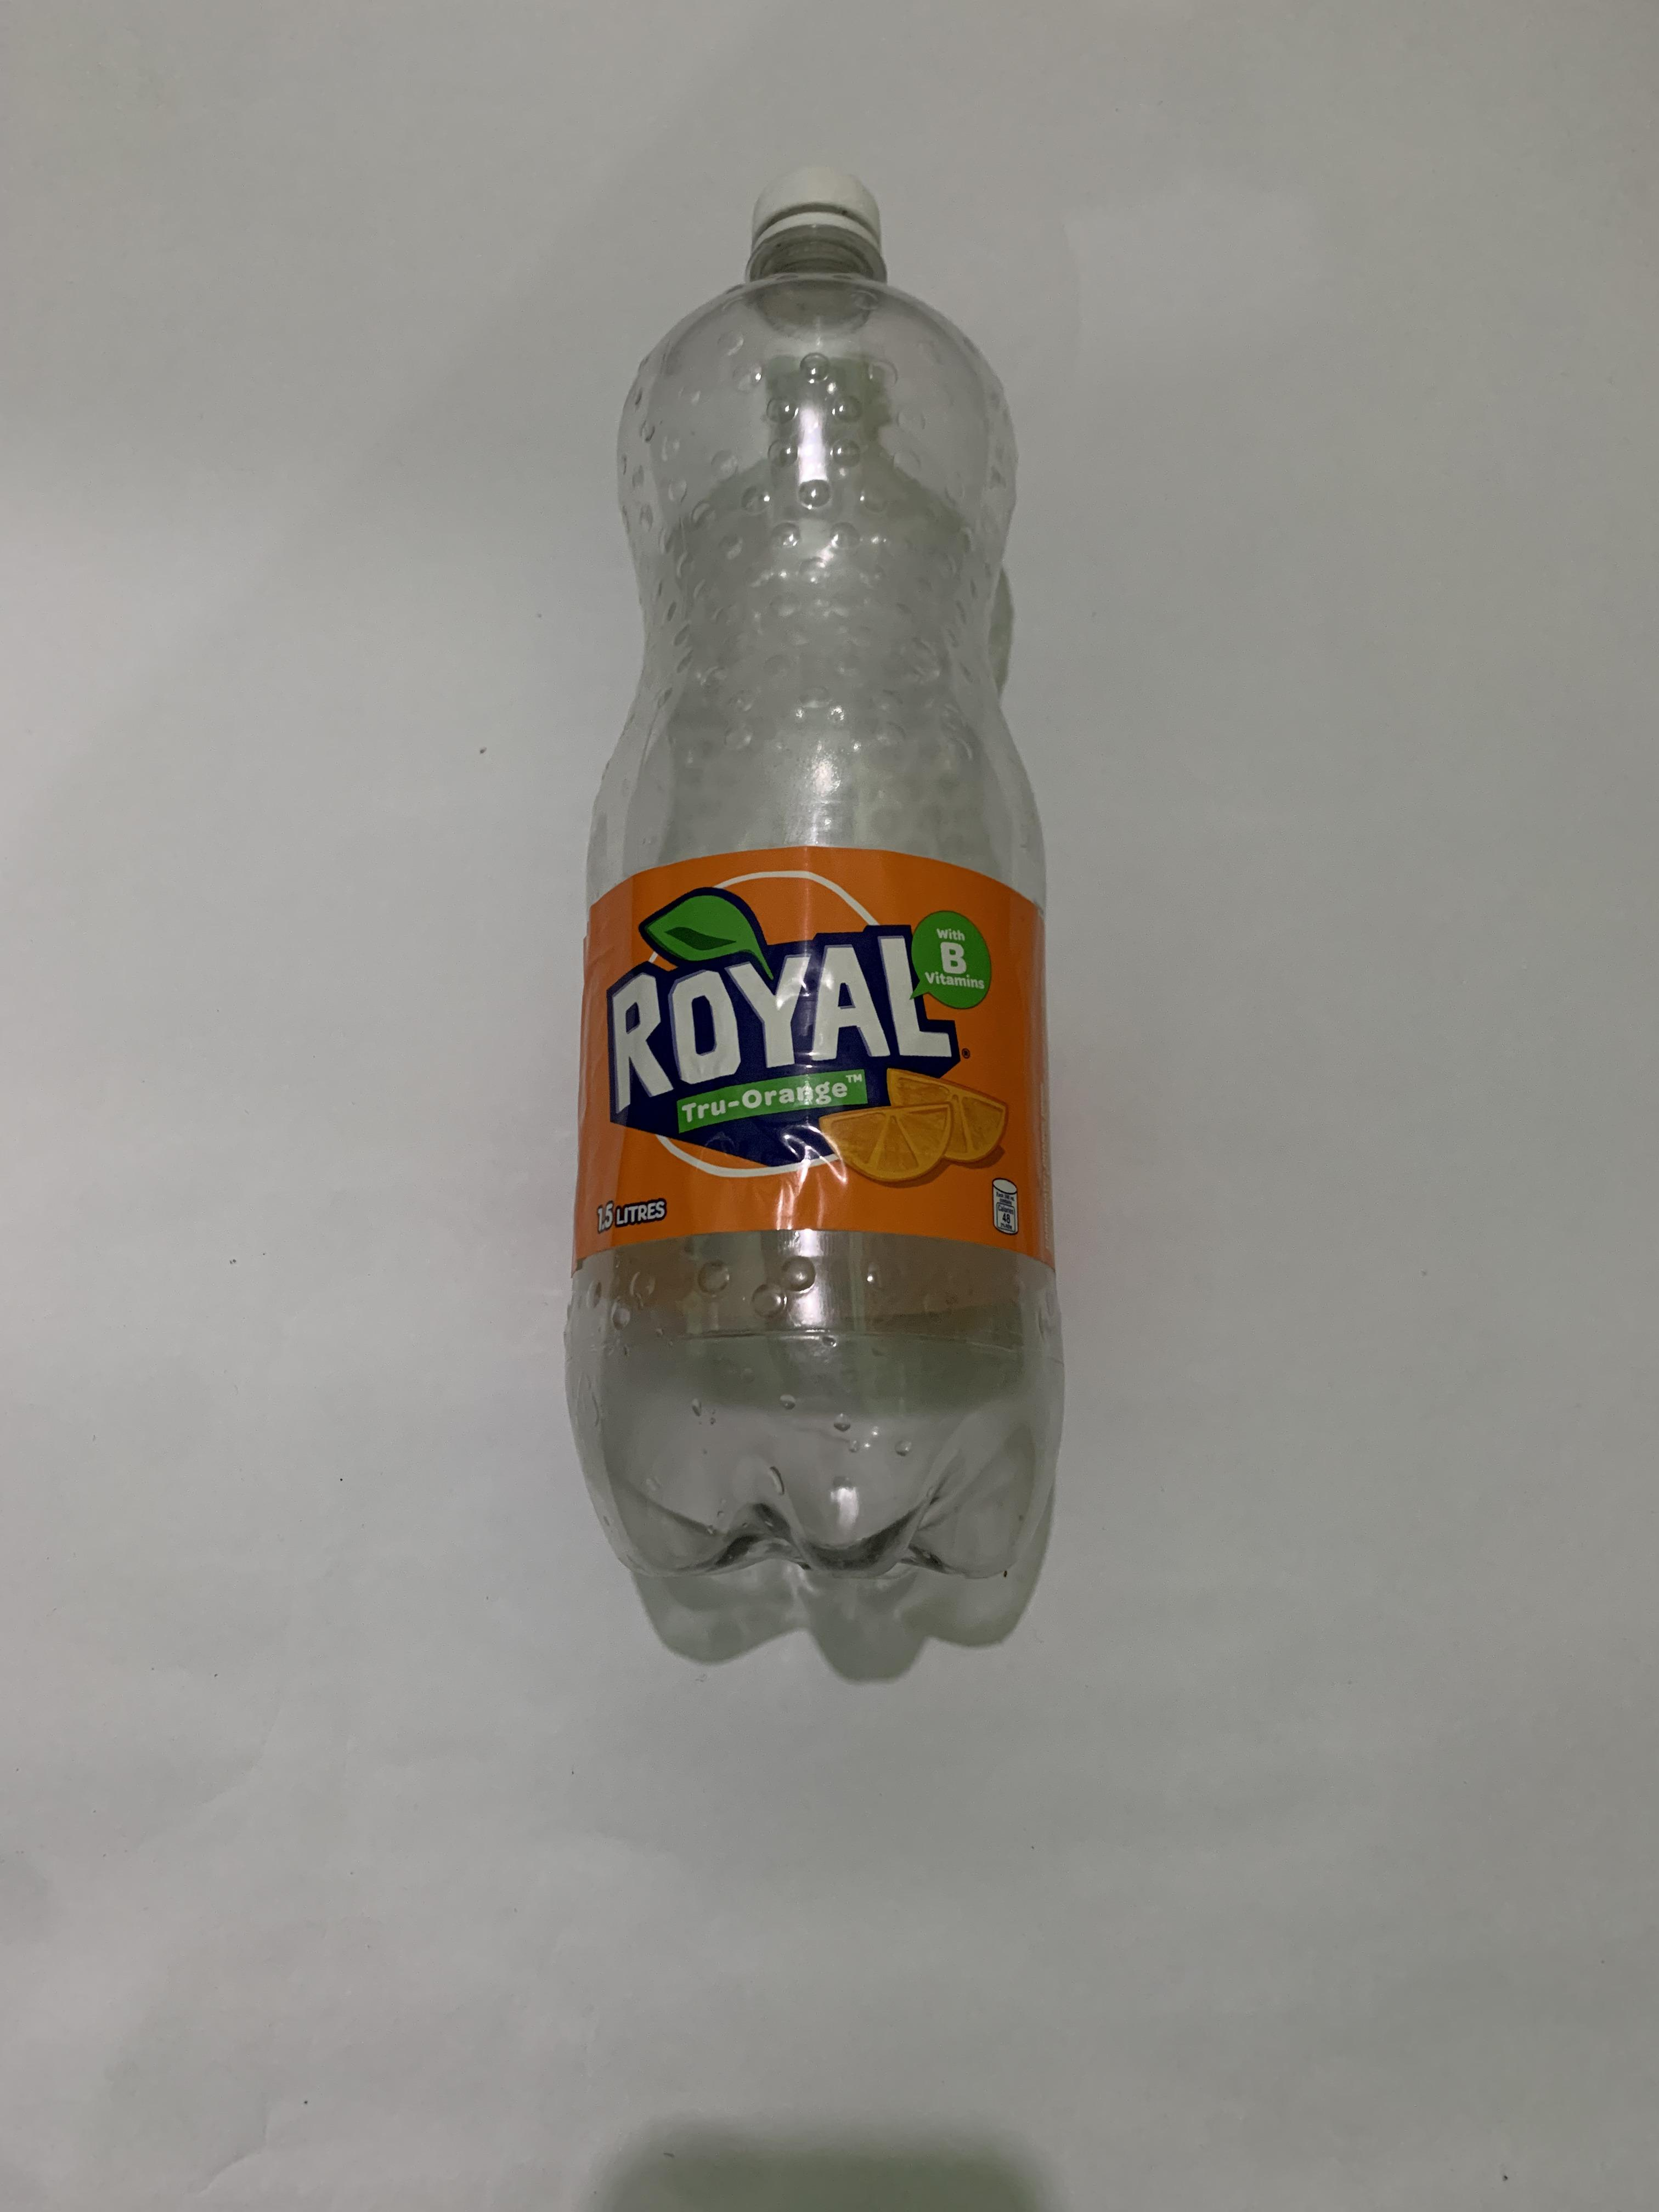bottle: (559, 209, 1070, 1547)
